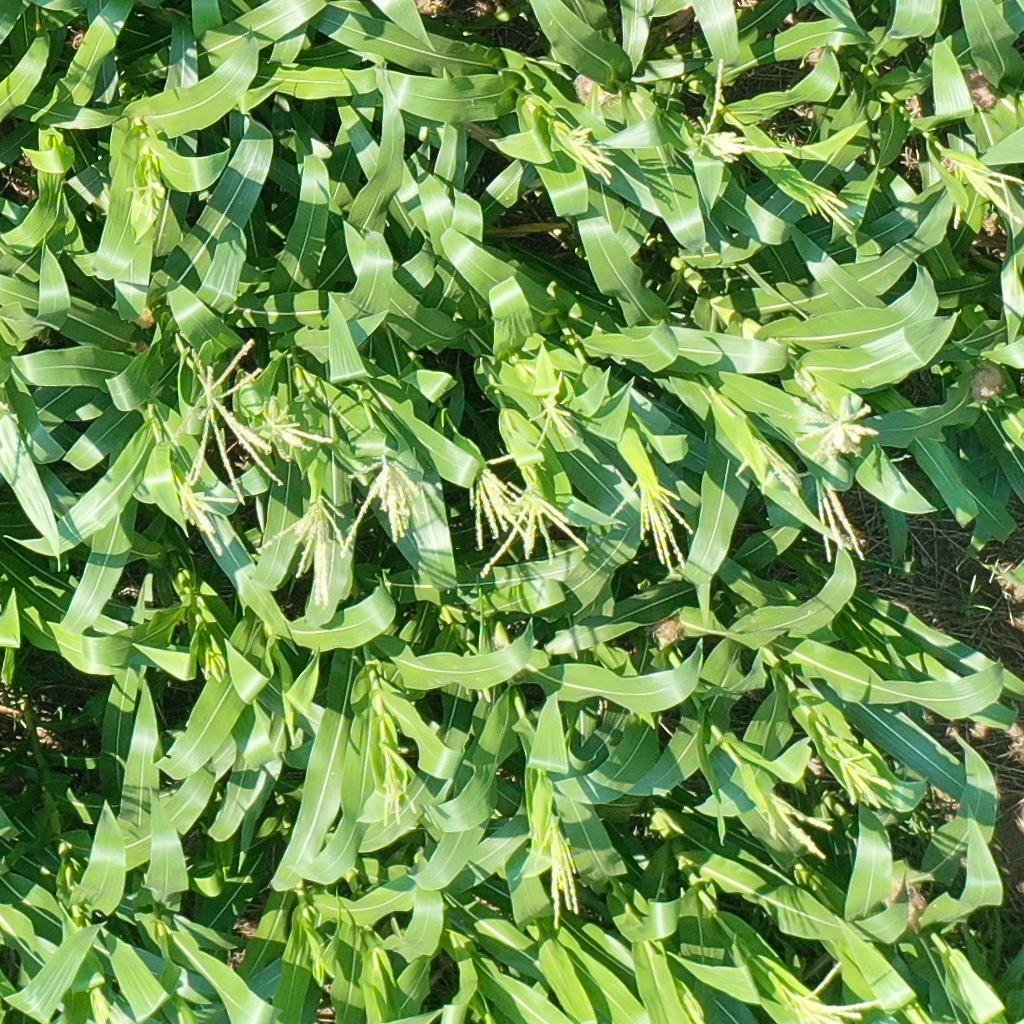Tassel: (175, 338, 288, 507), (478, 478, 594, 581), (687, 57, 794, 166), (339, 440, 432, 562), (255, 494, 349, 610), (609, 469, 698, 578), (782, 368, 877, 466), (779, 959, 880, 1024), (941, 155, 1023, 231), (462, 452, 530, 541), (240, 395, 332, 456), (807, 468, 864, 566), (761, 788, 836, 860), (176, 478, 241, 558), (522, 373, 581, 452), (731, 439, 805, 501), (540, 815, 580, 925), (836, 748, 897, 811), (557, 122, 616, 182), (802, 183, 860, 232), (382, 754, 419, 822), (122, 164, 166, 221), (93, 994, 124, 1024), (203, 652, 227, 683)
